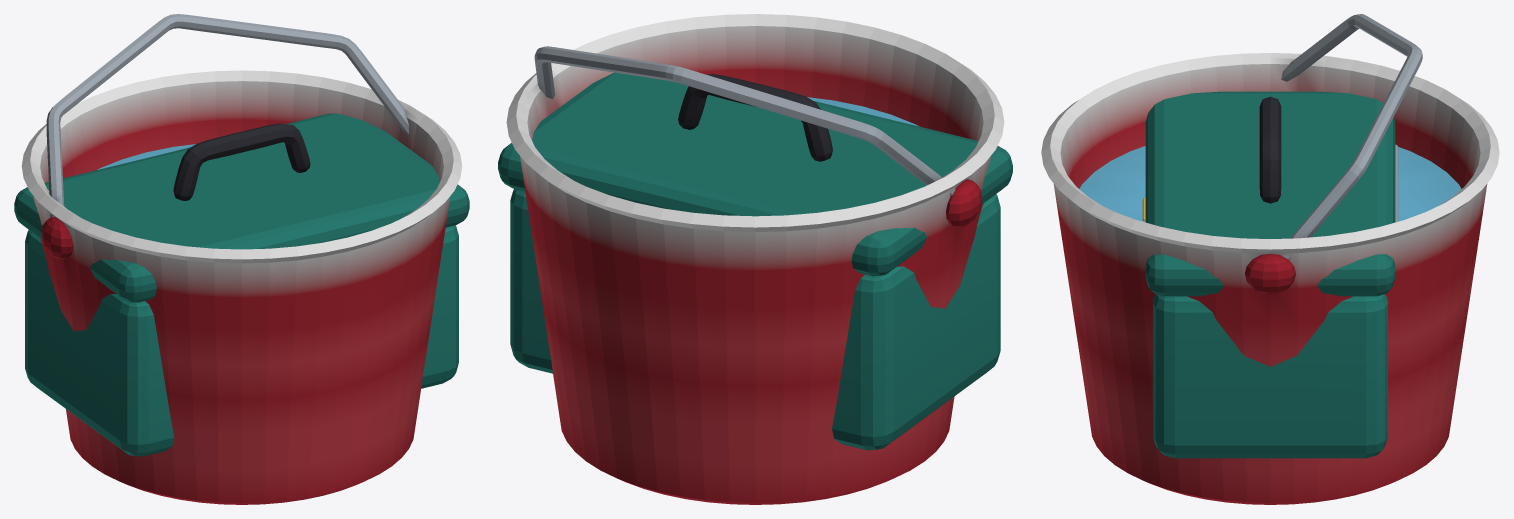
The model's file is grej.glb.
The picture shows the model from 3 angles, left to right: view 1: azimuth 30°, elevation 25°; view 2: azimuth 150°, elevation 25°; view 3: azimuth 270°, elevation 25°; orthographic projection. The views are drawn at different scales.
Visible parts, largest first — view 1: spandkrop, grejlåg, grejkrop, spandhank, grejhank, spandøre-1; view 2: spandkrop, grejlåg, grejkrop, spandhank, grejhank, spandøre-1, spandvand; view 3: spandkrop, grejlåg, grejkrop, spandvand, spandhank, grejhank, spandøre1.
Part boxes in pixels (box(x1,y1,x2,y2)): spandkrop: box(21, 70, 462, 504); grejlåg: box(14, 113, 469, 302); grejkrop: box(25, 225, 458, 456); spandhank: box(46, 14, 409, 217); grejhank: box(173, 123, 310, 200); spandøre-1: box(41, 216, 73, 259); spandkrop: box(506, 14, 1004, 504); grejlåg: box(498, 72, 1012, 276); grejkrop: box(510, 189, 1000, 450); spandhank: box(534, 46, 955, 196); grejhank: box(678, 74, 832, 161); spandøre-1: box(946, 179, 981, 227); spandvand: box(807, 97, 918, 126); spandkrop: box(1041, 53, 1499, 504); grejlåg: box(1145, 91, 1395, 296); grejkrop: box(1153, 294, 1387, 458); spandvand: box(1079, 146, 1461, 222); spandhank: box(1281, 14, 1422, 260); grejhank: box(1259, 96, 1281, 203); spandøre1: box(1245, 254, 1295, 294).
Size of the model in its own units: 0.638 by 0.578 by 0.624.
